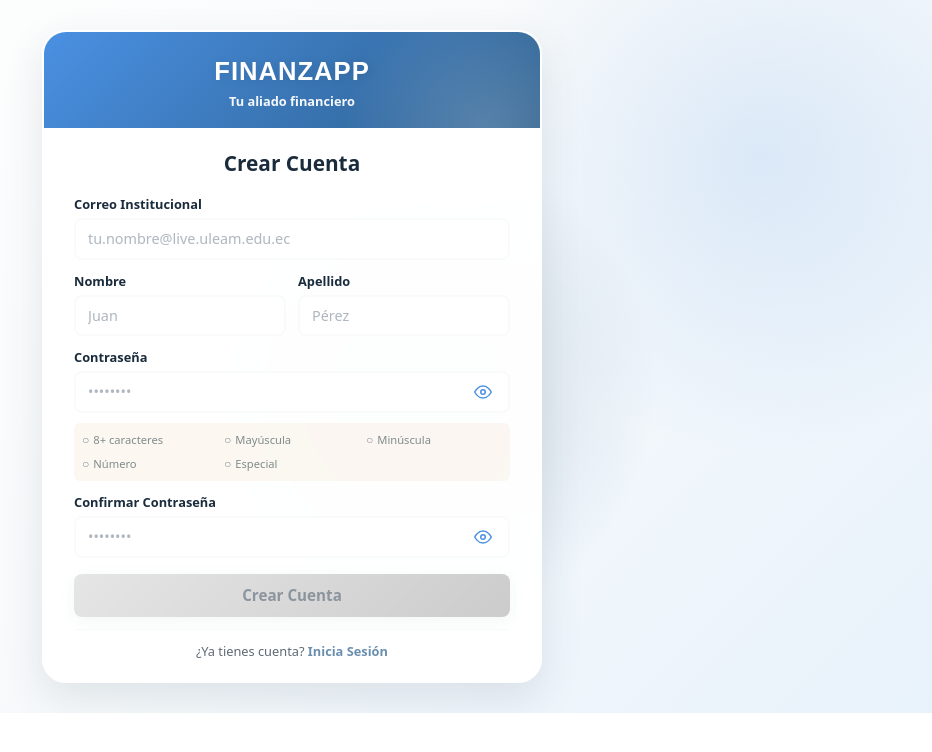
Test case: Register.vue › Valida que las contraseñas coincidan
Type "David123#" into the password field labelled "Contraseña" at {"x": 292, "y": 392}, box [74, 372, 510, 413]
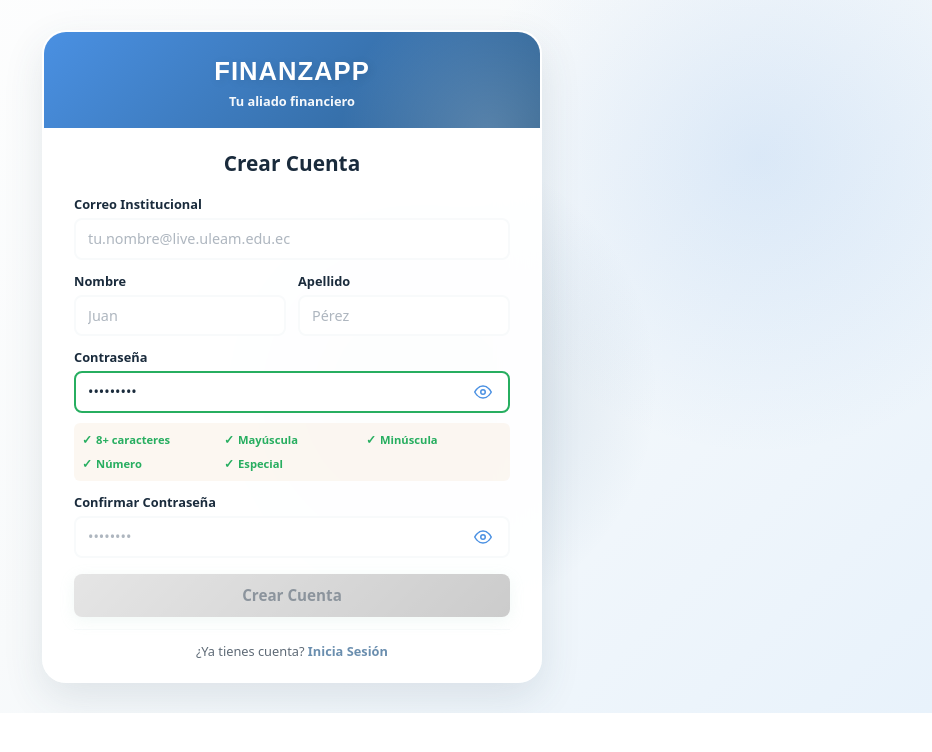
Type "DifferentPass123#" into the password field with id "confirmPassword" at {"x": 292, "y": 537}, box [74, 516, 510, 558]
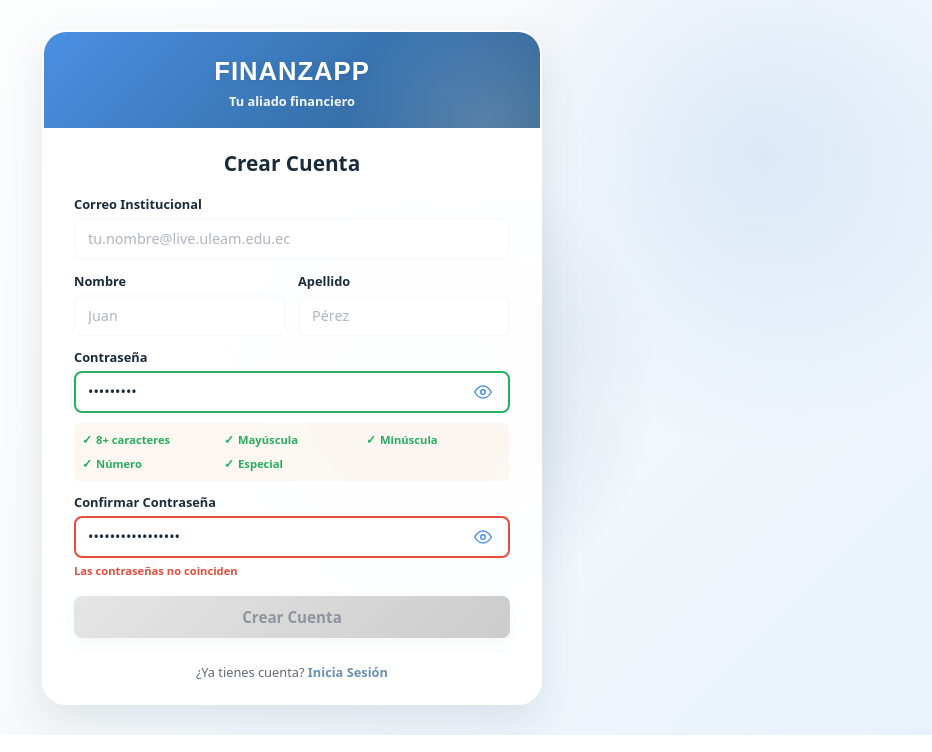
expect the text "Las contraseñas no coinciden" is shown: met, box [74, 563, 238, 578]
